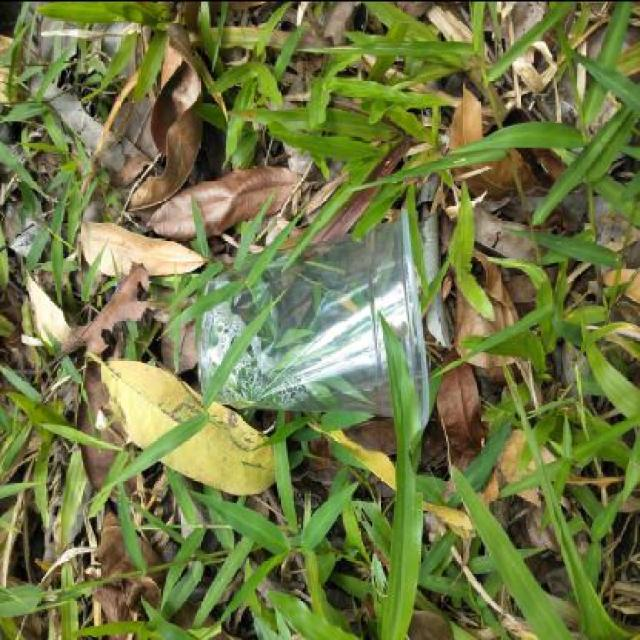plastic: (198, 203, 428, 431)
